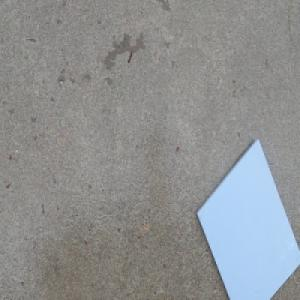PaintChip: (195, 137, 300, 300)
